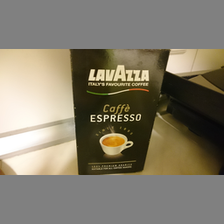coffee: (70, 50, 168, 174)
